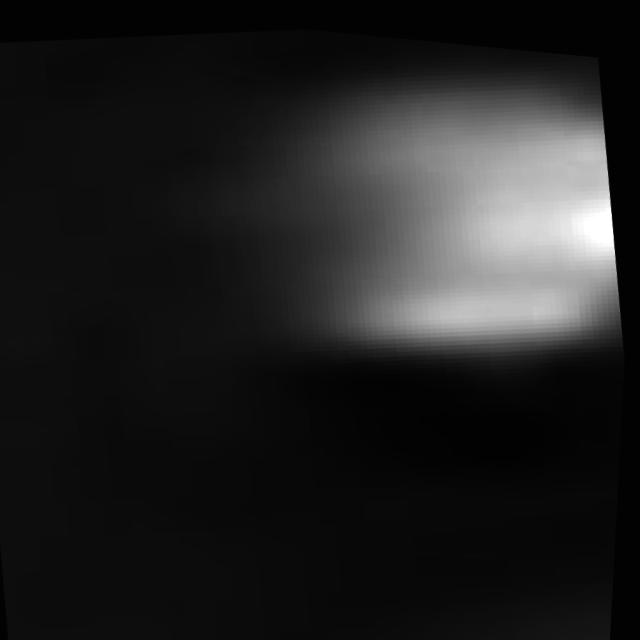person: (194, 35, 640, 413)
